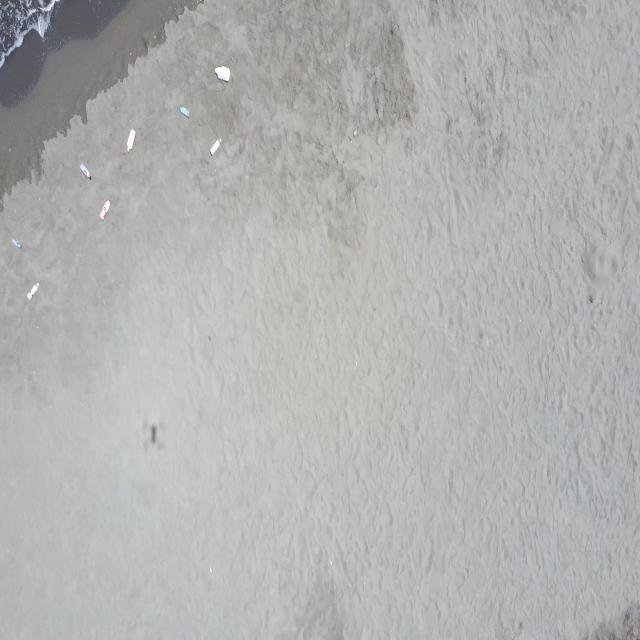Garbage: (99, 200, 110, 220), (27, 281, 39, 299), (127, 128, 135, 151), (216, 65, 228, 80), (209, 139, 220, 155), (80, 163, 90, 179), (179, 106, 188, 116), (12, 238, 20, 248)
